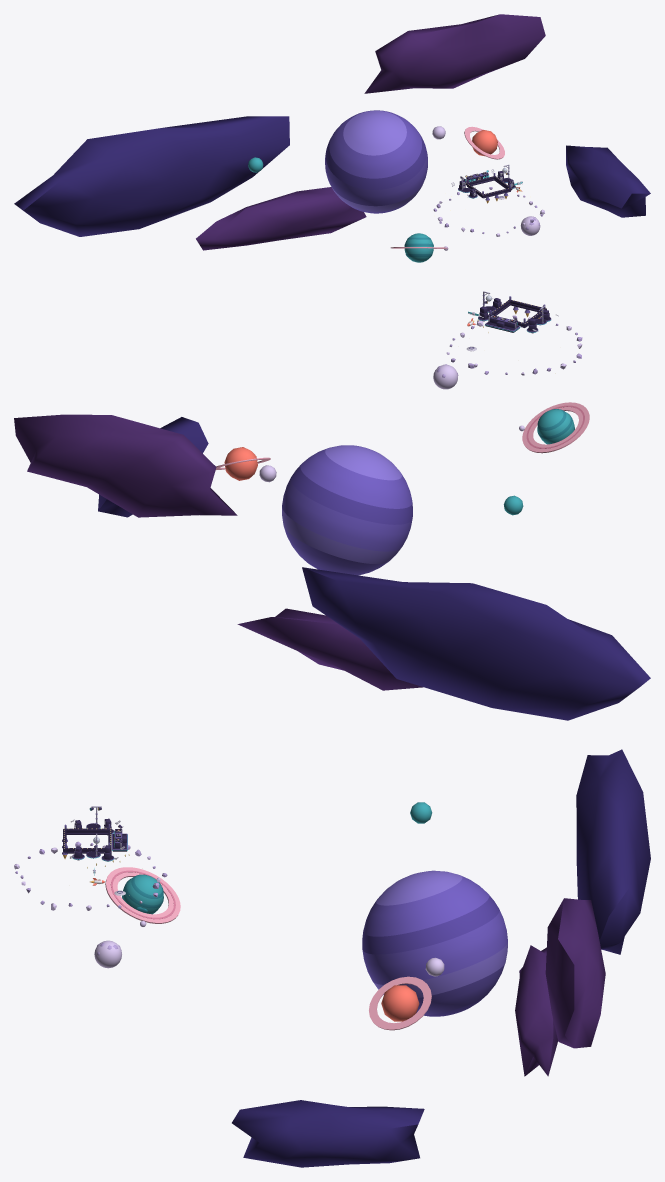
Rendered from color.glb.
3 renders of one model, top to bottom at view 1: azimuth 30°, elevation 25°; view 2: azimuth 150°, elevation 25°; view 3: azimuth 270°, elevation 25°, orthographic. The views are drawn at different scales.
Visible parts, largest first — view 1: nebulae, giant, far_worlds, planet, stage; view 2: nebulae, giant, planet_ring, far_worlds, planet; view 3: nebulae, giant, far_worlds, planet_ring, planet, stage, moon.
Part boxes in pixels (x1,y1,x2,y2): nebulae: [14, 14, 650, 250]; giant: [325, 110, 427, 213]; far_worlds: [248, 126, 504, 172]; planet: [404, 233, 433, 262]; stage: [465, 173, 512, 198]; nebulae: [14, 414, 650, 720]; giant: [282, 445, 412, 575]; planet_ring: [522, 402, 589, 453]; far_worlds: [216, 447, 523, 515]; planet: [537, 409, 574, 444]; nebulae: [232, 749, 650, 1167]; giant: [362, 870, 507, 1016]; far_worlds: [369, 802, 432, 1030]; planet_ring: [105, 867, 180, 923]; planet: [122, 874, 163, 914]; stage: [63, 824, 111, 853]; moon: [94, 940, 121, 968].
Size of the model in its own units: 243 by 78.81 by 183.
